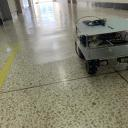cart: (75, 17, 128, 75)
